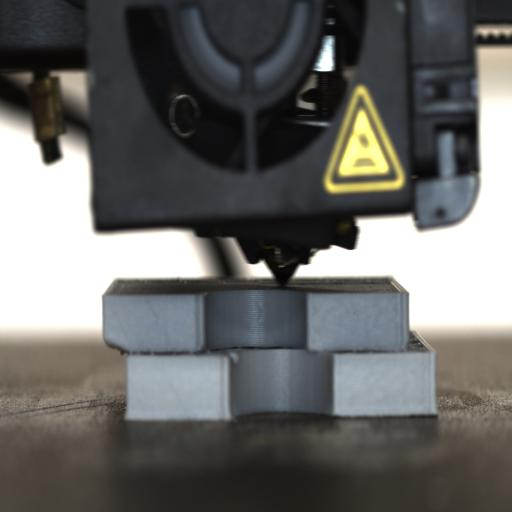layer_shift: (102, 338, 436, 361)
